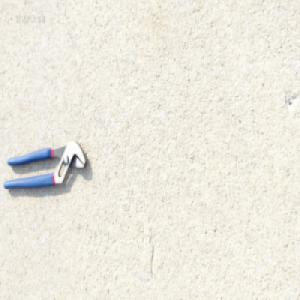Pliers: (3, 136, 86, 191)
